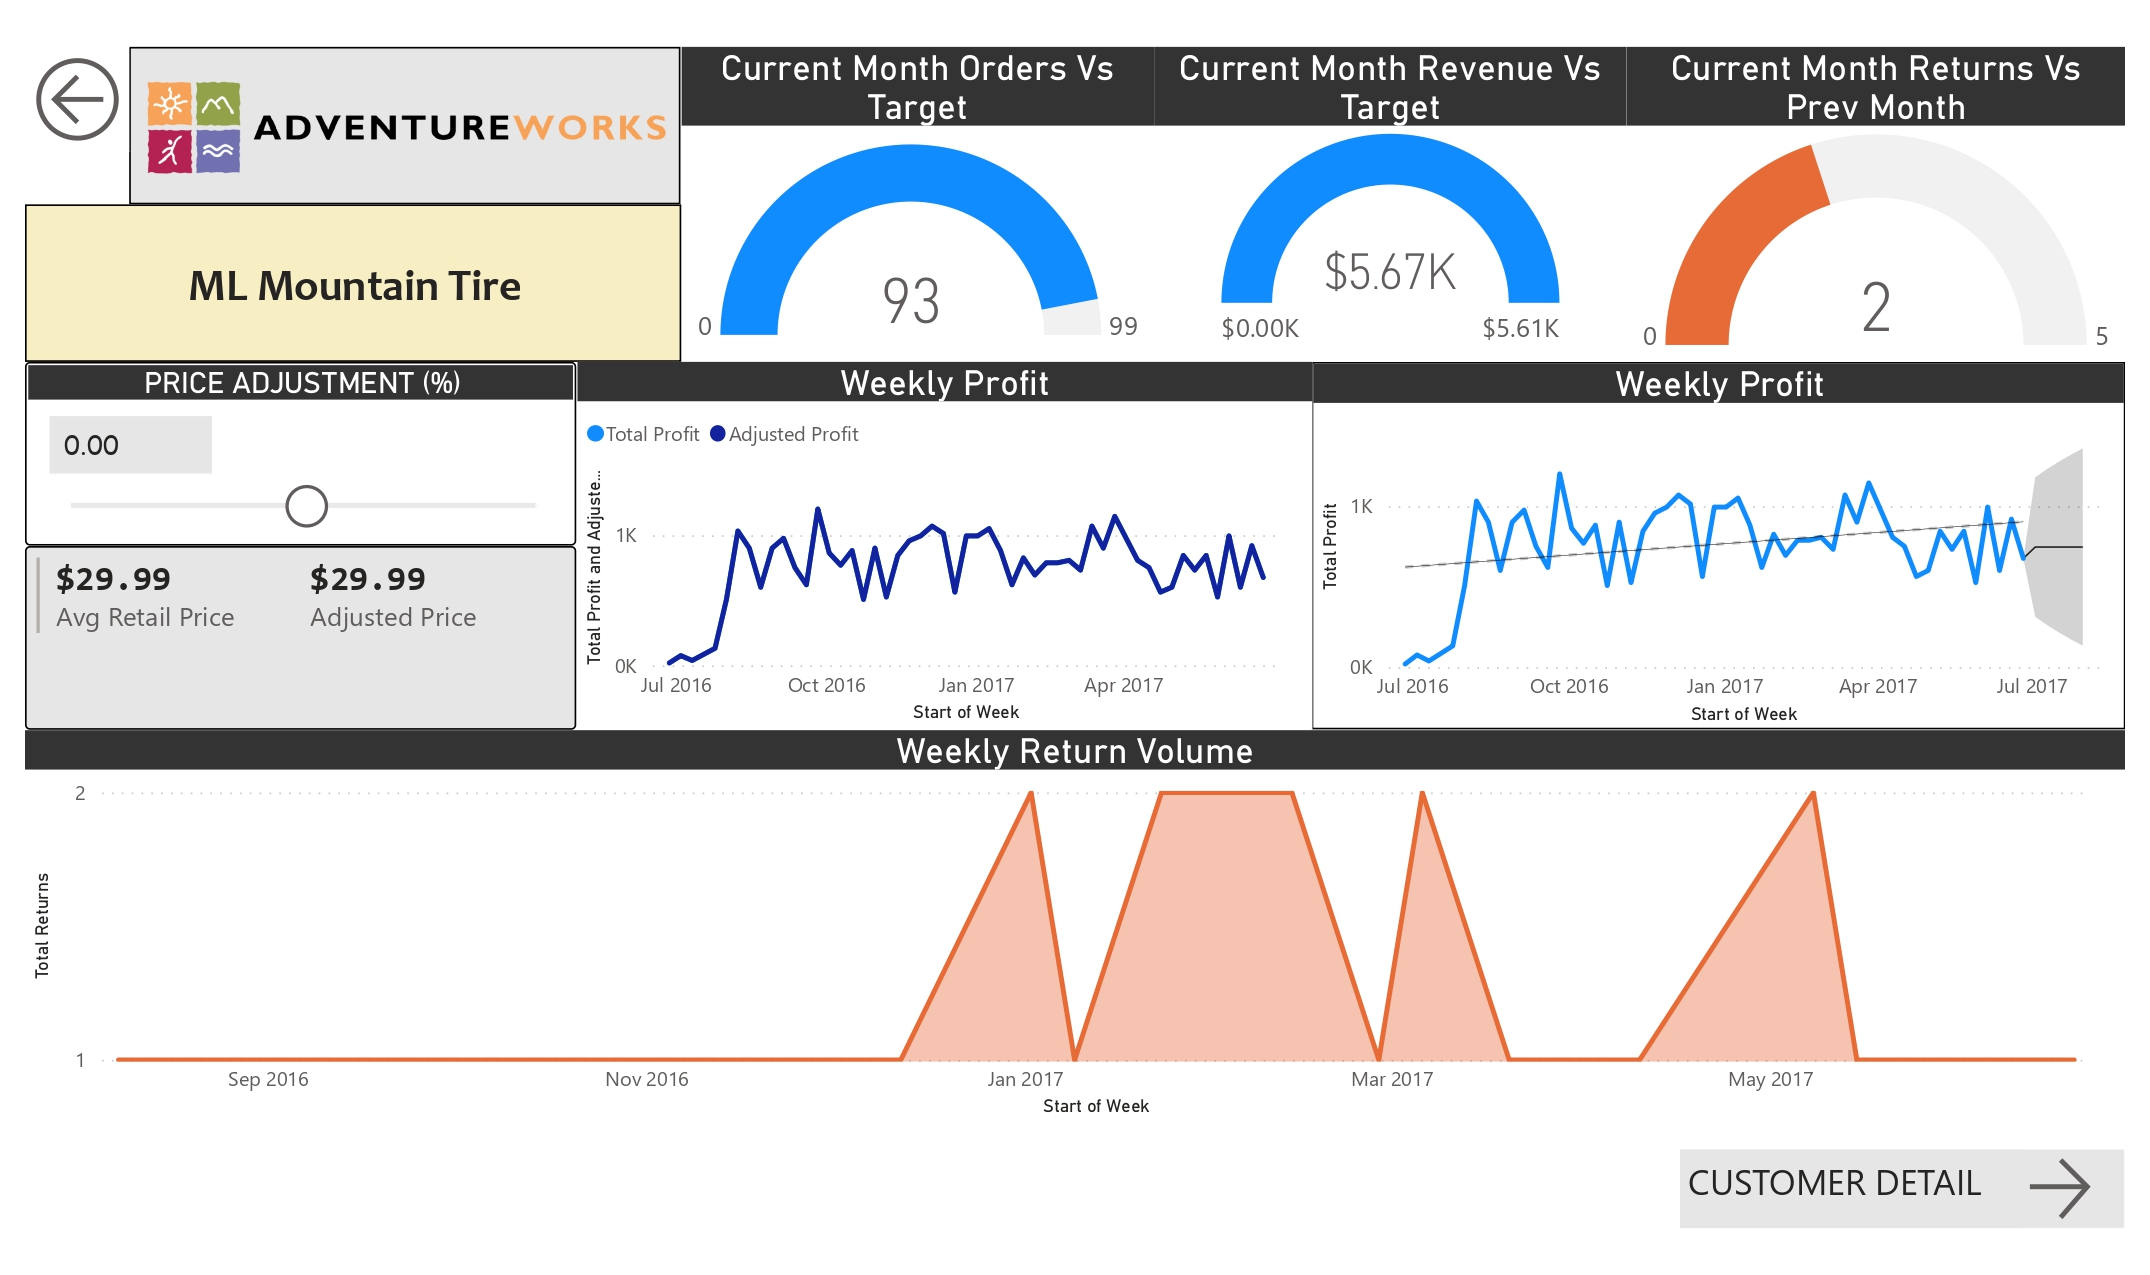

Layout of this report page (visuals, bound fields, positions):
{"tool":"powerbi","page":{"name":"Product Details","canvas":[1280,720],"ordinal":1},"visuals":[{"type":"image","box":[64,0,336,96],"z":0},{"type":"lineChart","title":"Weekly Profit","fields":{"Y":["AW_Sales.Total Profit"],"Category":["AW_Calendar_Lookup.Start of Week"]},"box":[784,192,496,224],"z":1000},{"type":"areaChart","title":"Weekly Return Volume","fields":{"Category":["AW_Calendar_Lookup.Start of Week"],"Y":["AW_Returns.Total Returns"]},"box":[0,416,1280,240],"z":2000},{"type":"gauge","title":"Current Month Orders Vs Target","fields":{"Y":["AW_Sales.Total Orders"],"MaxValue":["AW_Sales.Order Target"]},"box":[400,0,288,192],"z":3000},{"type":"gauge","title":"Current Month Revenue Vs Target","fields":{"MaxValue":["AW_Sales.Revenue Target"],"Y":["AW_Sales.Total Revenue"]},"box":[688,0,288,192],"z":4000},{"type":"gauge","title":"Current Month Returns Vs Prev Month","fields":{"MaxValue":["AW_Sales.Prev Month Returns"],"Y":["AW_Returns.Total Returns"]},"box":[976,0,304,192],"z":5000},{"type":"card","title":"Top Product (Orders)","fields":{"Values":["Min(AW_Product_Lookup.ProductName)"]},"box":[0,96,400,96],"z":6000},{"type":"actionButton","box":[0,0,64,64],"z":7000},{"type":"slicer","title":"PRICE ADJUSTMENT (%)","fields":{"Values":["Price Adjustment (%).Price Adjustment (%)"]},"box":[0,192,336,112],"z":8000},{"type":"multiRowCard","fields":{"Values":["AW_Product_Lookup.Avg Retail Price","AW_Product_Lookup.Adjusted Price"]},"box":[0,304,336,112],"z":9000},{"type":"lineChart","title":"Weekly Profit","fields":{"Y":["AW_Sales.Total Profit","AW_Sales.Adjusted Profit"],"Category":["AW_Calendar_Lookup.Start of Week"]},"box":[336,192,448,224],"z":10000},{"type":"actionButton","box":[1216,672,64,48],"z":11000},{"type":"textbox","box":[1008,672,208,48],"z":12000}]}

Visuals, with their boxes on the page's 1280x720 design canvas (x1, y1, x2, y2). These are canvas units, not pixel positions in the 2150x1275 screenshot, which may show the page scaled, cropped or inside an application window:
image: <region>64, 0, 400, 96</region>
"Weekly Profit" lineChart: <region>784, 192, 1280, 416</region>
"Weekly Return Volume" areaChart: <region>0, 416, 1280, 656</region>
"Current Month Orders Vs Target" gauge: <region>400, 0, 688, 192</region>
"Current Month Revenue Vs Target" gauge: <region>688, 0, 976, 192</region>
"Current Month Returns Vs Prev Month" gauge: <region>976, 0, 1280, 192</region>
"Top Product (Orders)" card: <region>0, 96, 400, 192</region>
actionButton: <region>0, 0, 64, 64</region>
"PRICE ADJUSTMENT (%)" slicer: <region>0, 192, 336, 304</region>
multiRowCard - AW_Product_Lookup.Avg Retail Price x AW_Product_Lookup.Adjusted Price: <region>0, 304, 336, 416</region>
"Weekly Profit" lineChart: <region>336, 192, 784, 416</region>
actionButton: <region>1216, 672, 1280, 720</region>
textbox: <region>1008, 672, 1216, 720</region>
